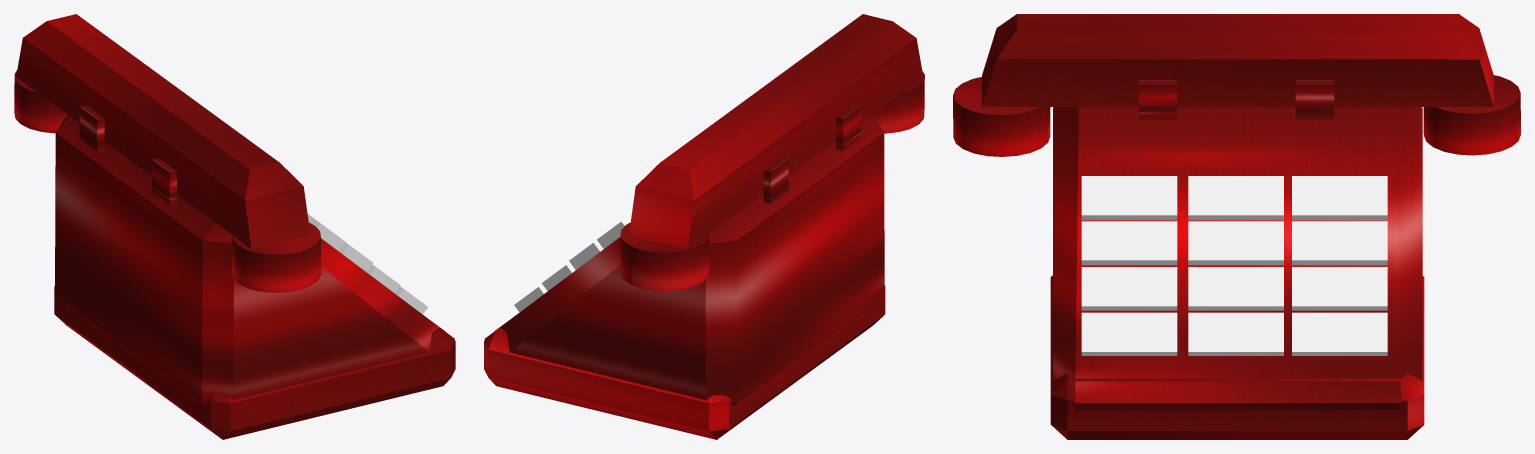
File: Telefonito.obj
3 views of the same model, side by side, from view 1: azimuth 30°, elevation 25°; view 2: azimuth 150°, elevation 25°; view 3: azimuth 270°, elevation 25° (orthographic). The views are drawn at different scales.
Parts seen in each view (by area): view 1: group5_pasted__group4_pasted__pasted__pCube5; view 2: group5_pasted__group4_pasted__pasted__pCube5; view 3: group5_pasted__group4_pasted__pasted__pCube5.
Part boxes in pixels (x1,y1,x2,y2): group5_pasted__group4_pasted__pasted__pCube5: (14, 14, 455, 439); group5_pasted__group4_pasted__pasted__pCube5: (484, 14, 924, 439); group5_pasted__group4_pasted__pasted__pCube5: (953, 14, 1520, 439).
Size of the model in its own units: 0.3975 by 0.4243 by 0.7023.
6 materials, 6 textured.
